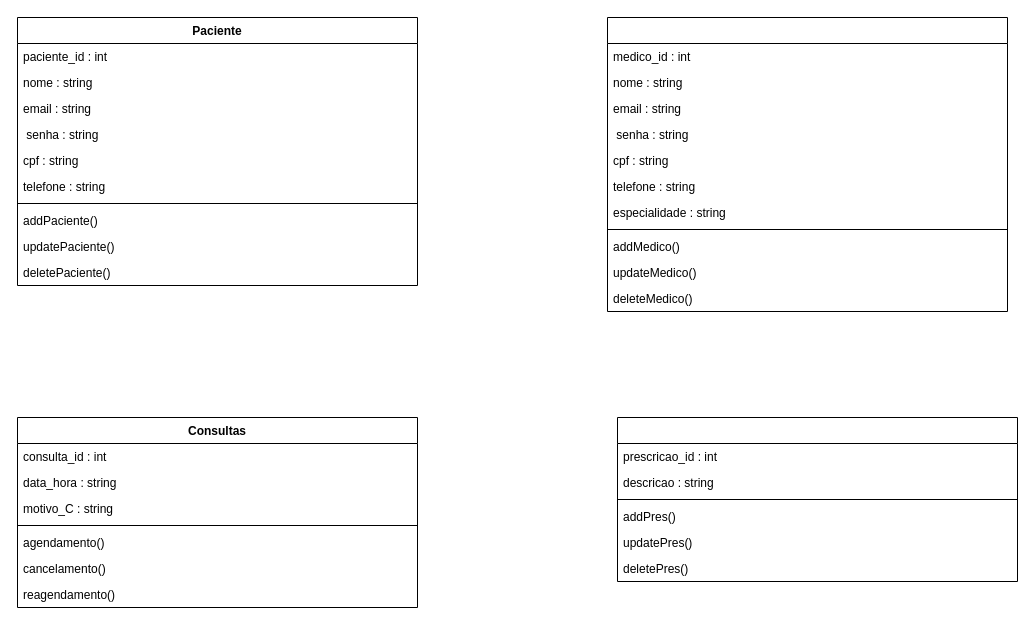
Image size: 1035x628. Some labels were removed from this diagram. The box of each missing label's shape, as (x1, y1, x2, y2) in pixels:
Médico: (606, 16, 1008, 312)
Prescrição: (616, 416, 1018, 582)
